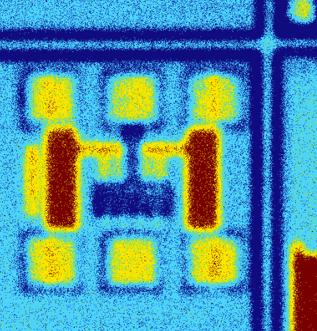Pad 3: (29, 238, 76, 284), (192, 237, 237, 283), (110, 239, 156, 284), (193, 76, 237, 120), (112, 77, 154, 120), (32, 76, 72, 119)
